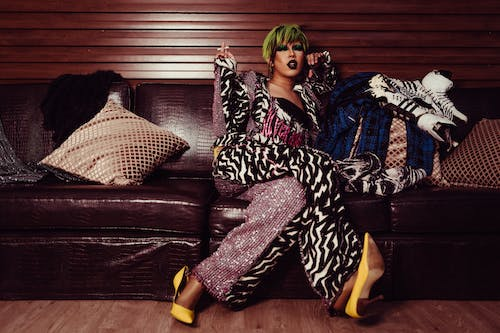cigarette: (216, 45, 231, 50)
